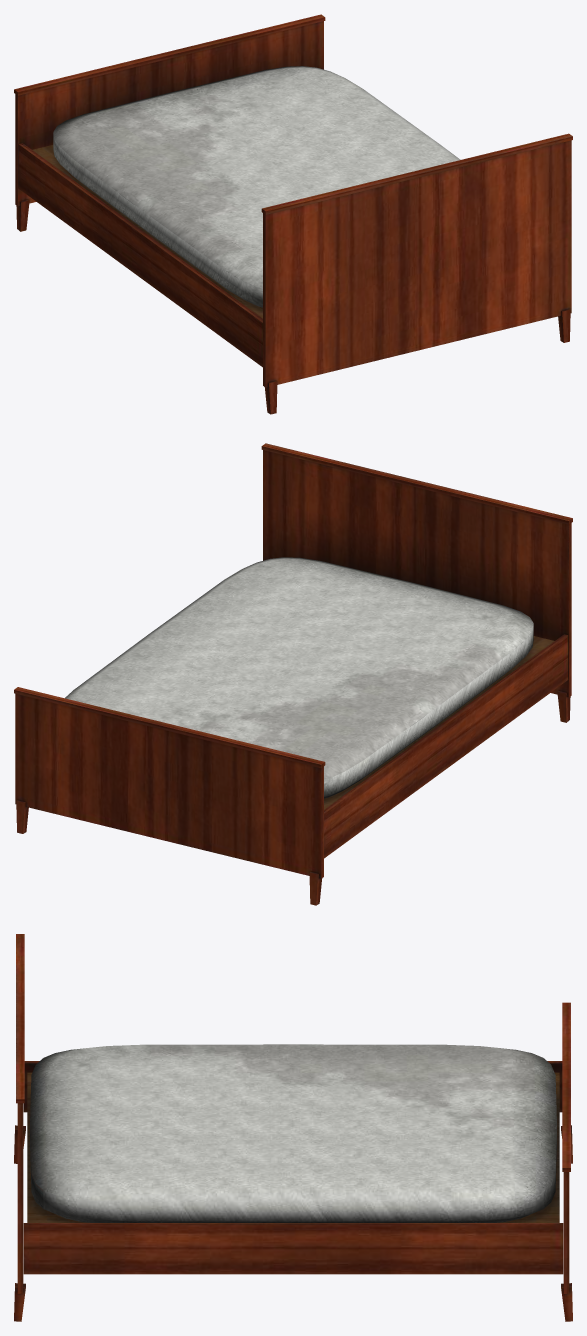
The model's file is bed_double_web.glb.
3 renders of one model, top to bottom at view 1: azimuth 30°, elevation 25°; view 2: azimuth 150°, elevation 25°; view 3: azimuth 270°, elevation 25°, orthographic. The views are drawn at different scales.
Visible parts, largest first — view 1: BedDouble_Mesh; view 2: BedDouble_Mesh; view 3: BedDouble_Mesh.
Part boxes in pixels (x1,y1,x2,y2): BedDouble_Mesh: (14,14,572,414); BedDouble_Mesh: (14,443,572,905); BedDouble_Mesh: (14,934,572,1321).
Size of the model in its own units: 1.45 by 0.917 by 2.07.
Materials: 1 (1 with a texture image).
